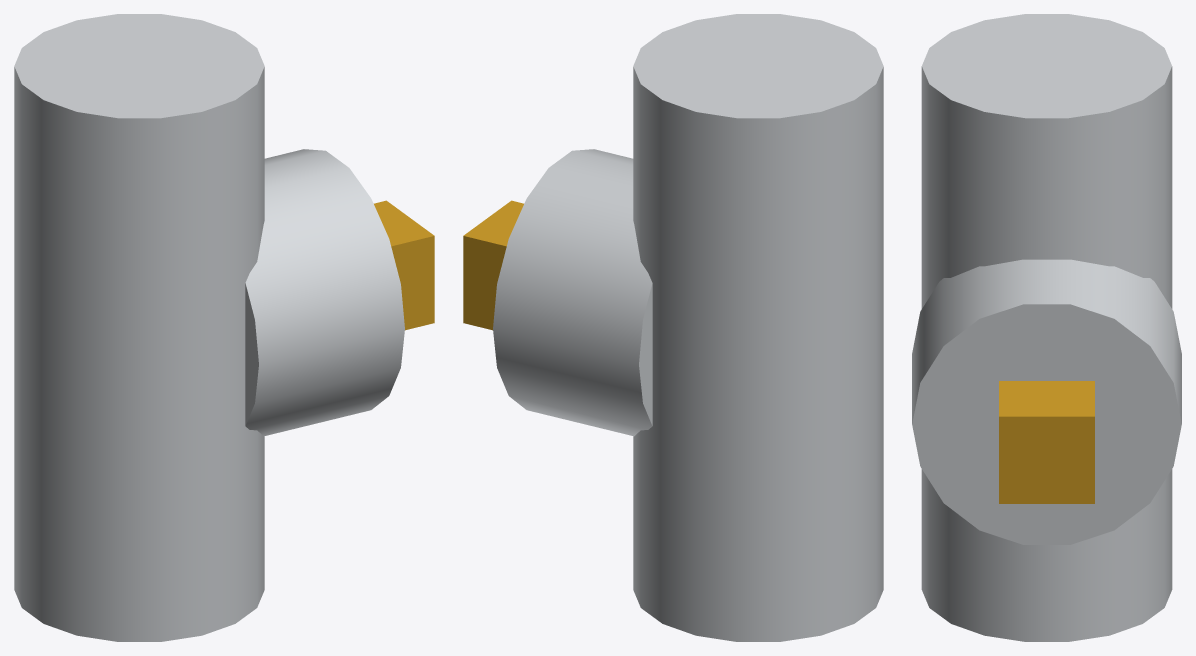
Rendered from fitting-cleanout-tee.glb.
3 views of the same model, side by side, from view 1: azimuth 30°, elevation 25°; view 2: azimuth 150°, elevation 25°; view 3: azimuth 270°, elevation 25° (orthographic).
Parts seen in each view (by area): view 1: plumbing-fitting-cleanout-tee; view 2: plumbing-fitting-cleanout-tee; view 3: plumbing-fitting-cleanout-tee.
Boxes of the visible parts, x1,y1,x2,y2 form: plumbing-fitting-cleanout-tee: [14, 14, 434, 641]; plumbing-fitting-cleanout-tee: [463, 14, 883, 641]; plumbing-fitting-cleanout-tee: [912, 14, 1181, 641].
Bounding box in the file's own units: 0.1812 × 0.24 × 0.112.
